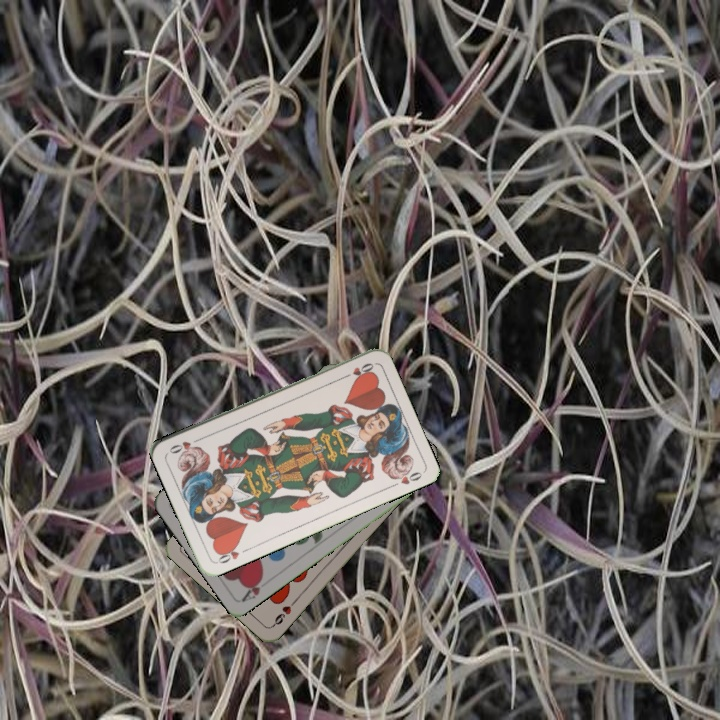H9: (269, 596, 300, 629)
HA: (238, 571, 274, 604)
HO: (213, 541, 251, 566), (338, 359, 376, 381)
